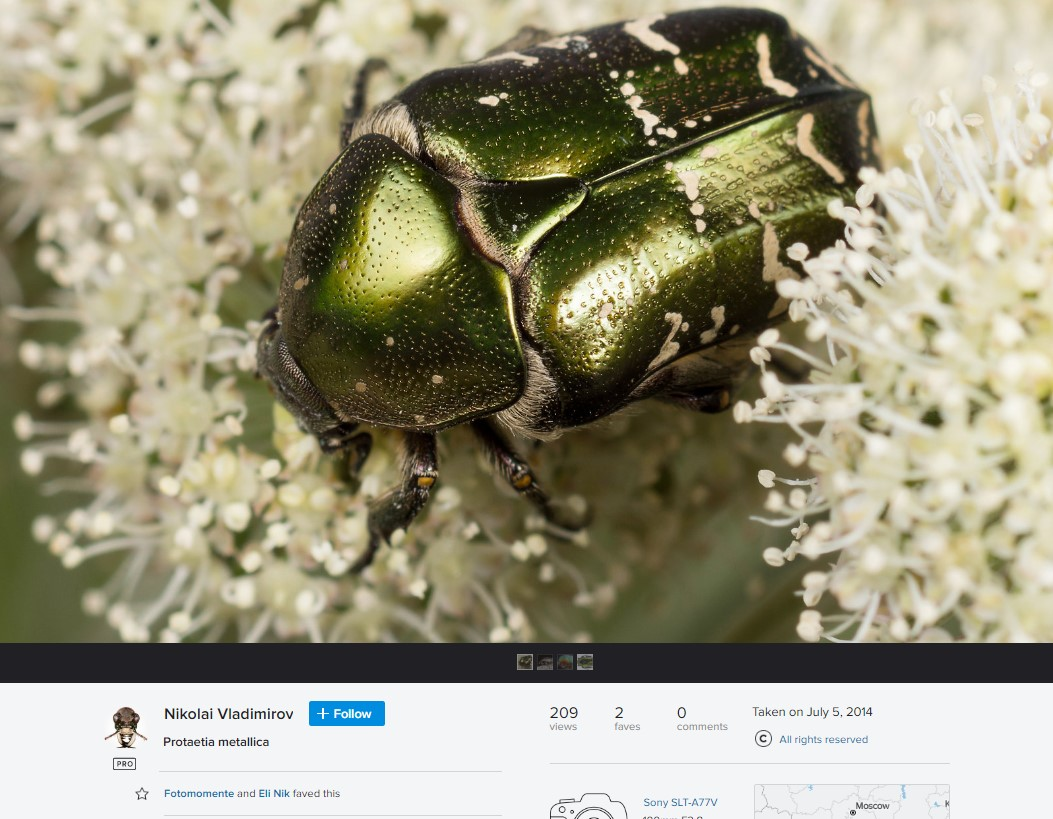Protaetia_metallica: (255, 3, 884, 573)
